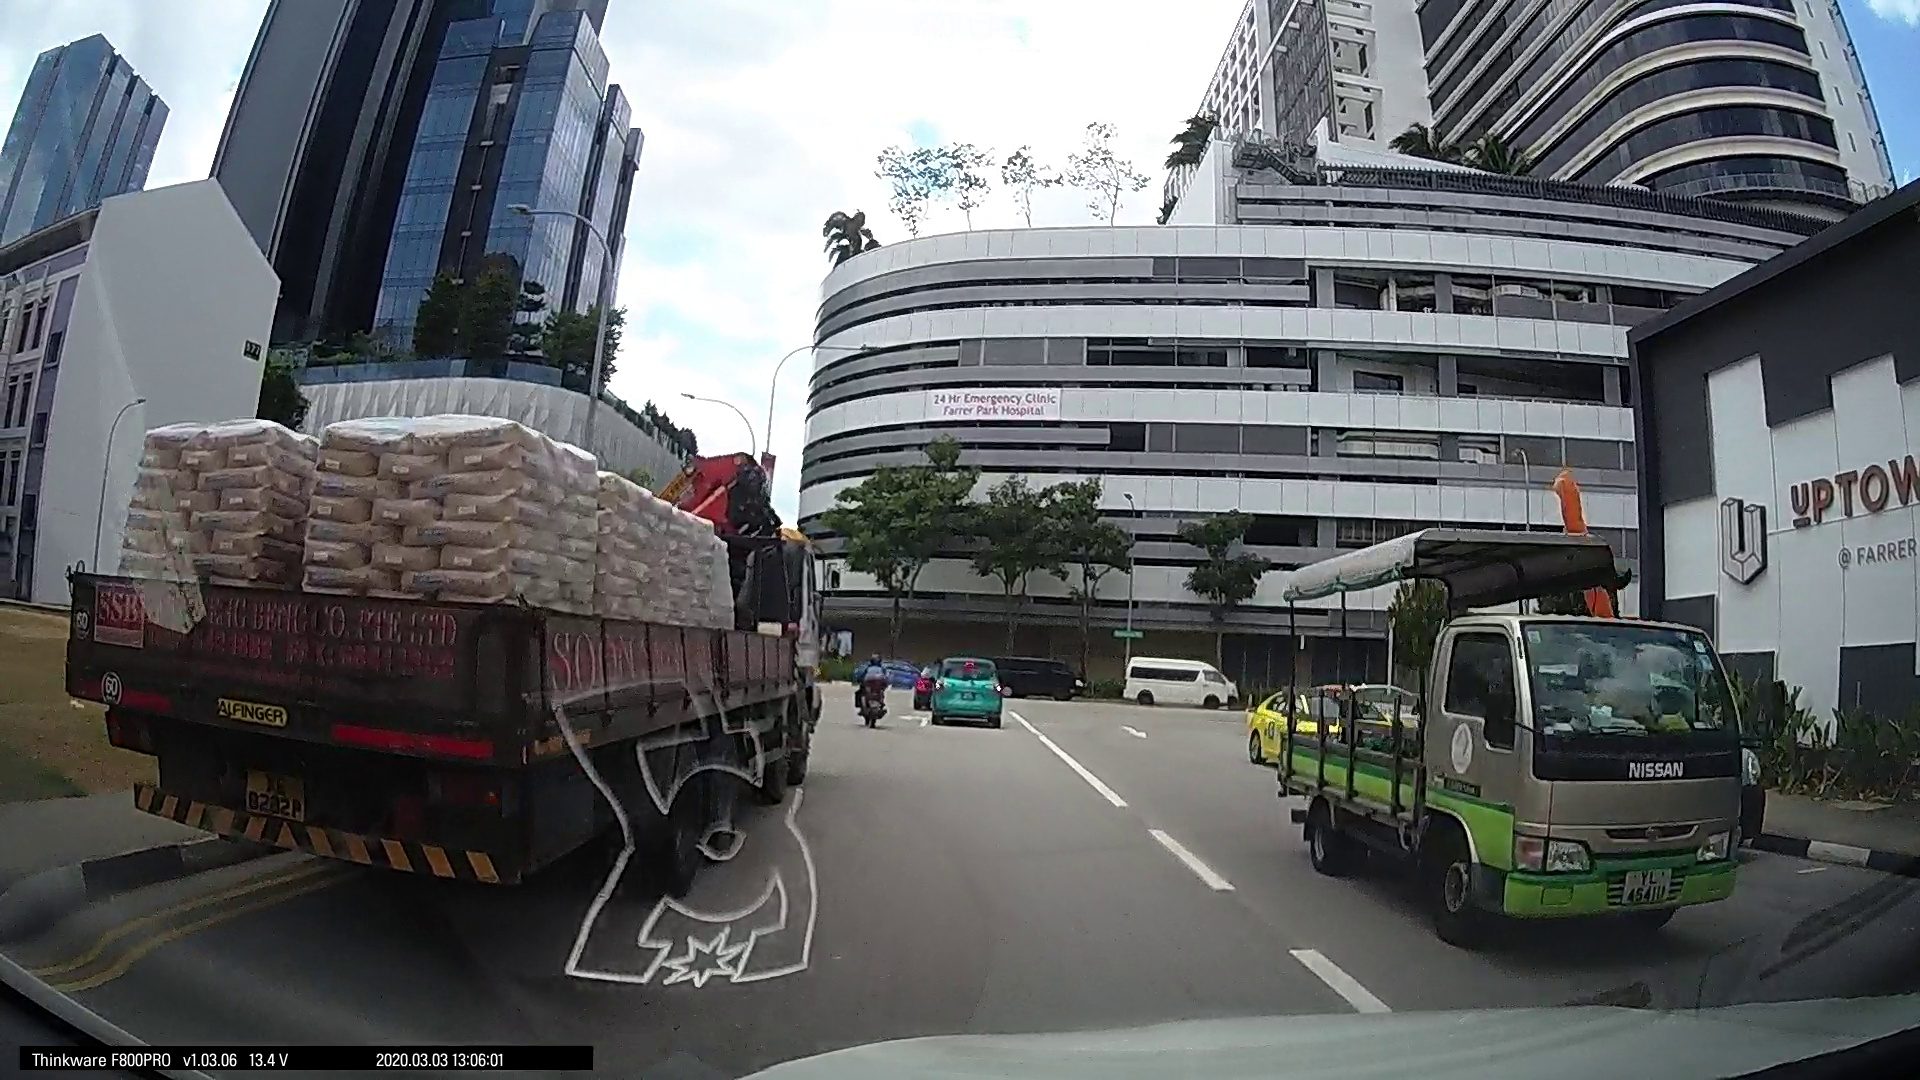Heavy Vehicle: (593, 465, 910, 798), (1361, 608, 1548, 781), (1147, 647, 1209, 705)
Light Vehicle: (5, 588, 608, 977)
